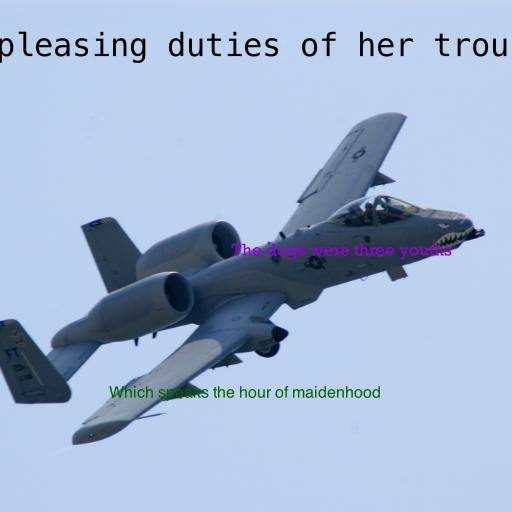Impact: (109, 386, 381, 401)
Menlo: (0, 31, 512, 63)
Rockwell: (230, 243, 452, 260)
